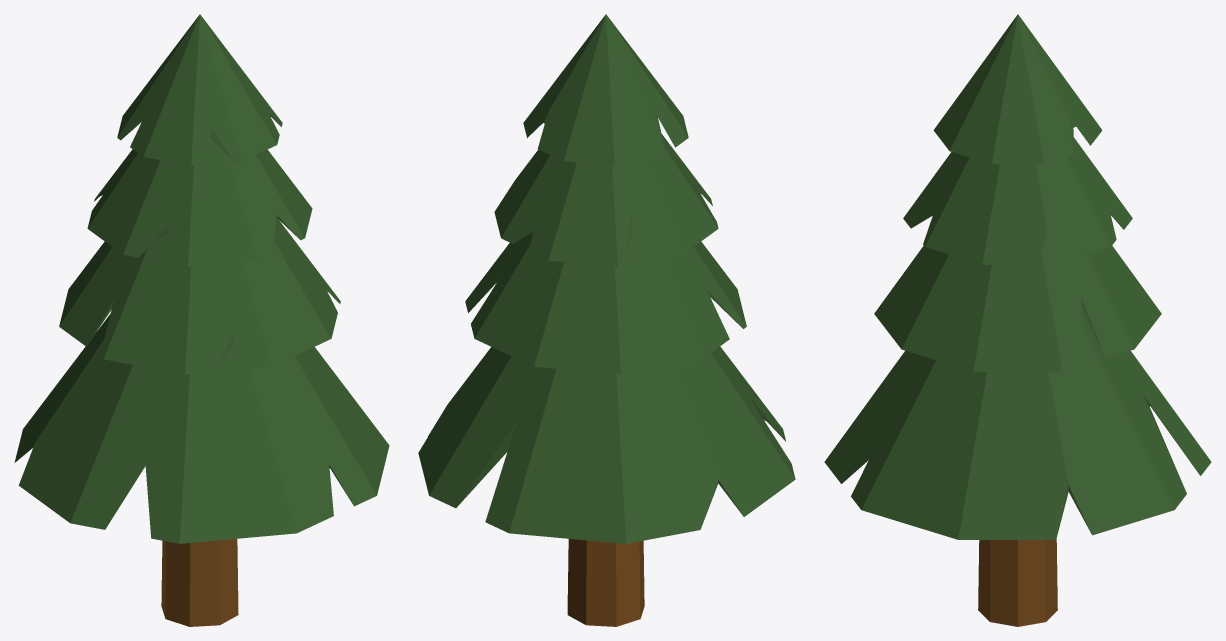
The model's file is Nadelbaum_01_rdy.fbx.
The picture shows the model from 3 angles, left to right: view 1: azimuth 30°, elevation 25°; view 2: azimuth 150°, elevation 25°; view 3: azimuth 270°, elevation 25°; orthographic projection.
Visible parts, largest first — view 1: Nadelbaum_01; view 2: Nadelbaum_01; view 3: Nadelbaum_01.
Boxes of the visible parts, x1,y1,x2,y2 form: Nadelbaum_01: (14, 14, 389, 626); Nadelbaum_01: (418, 14, 795, 626); Nadelbaum_01: (824, 14, 1211, 626).
Bounding box in the file's own units: 668 × 1193 × 702.
